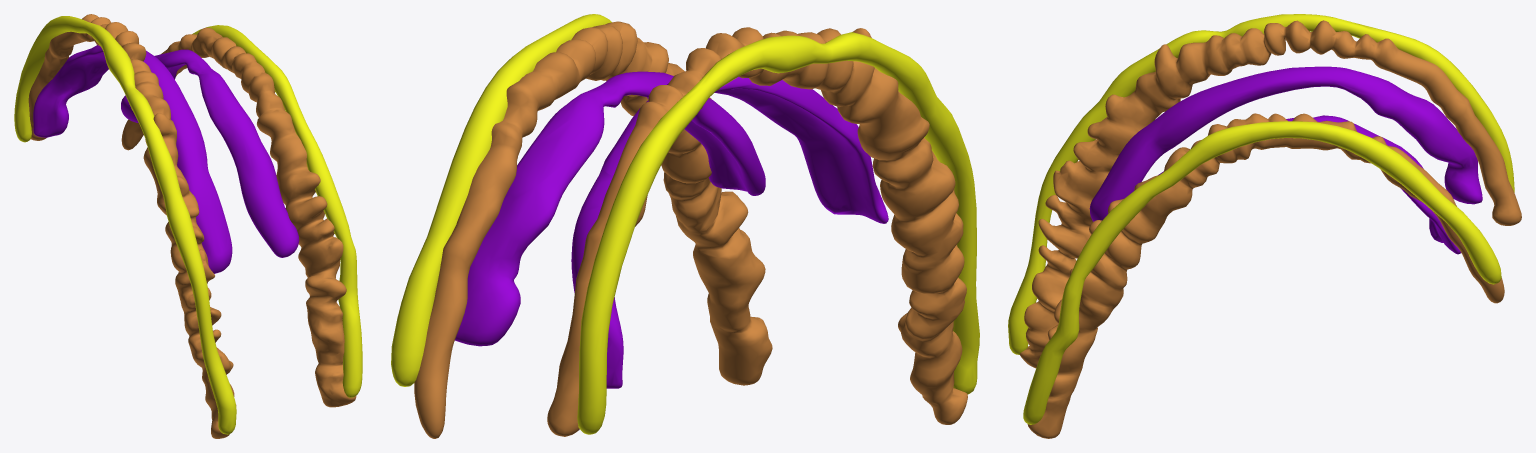
The model's file is MesonephrosMesonephricDuctGonodalRidge.fbx.
3 renders of one model, left to right at view 1: azimuth 30°, elevation 25°; view 2: azimuth 150°, elevation 25°; view 3: azimuth 270°, elevation 25°, orthographic. The views are drawn at different scales.
Visible parts, largest first — view 1: Mesonephros, Mesonephric_duct, Gonadal_ridge; view 2: Mesonephros, Mesonephric_duct, Gonadal_ridge; view 3: Mesonephros, Mesonephric_duct, Gonadal_ridge.
Boxes of the visible parts, x1,y1,x2,y2 form: Mesonephros: (28,14,356,438); Mesonephric_duct: (14,16,362,434); Gonadal_ridge: (33,45,299,273); Mesonephros: (414,21,967,438); Mesonephric_duct: (391,14,979,434); Gonadal_ridge: (455,71,888,388); Mesonephros: (1020,20,1521,438); Mesonephric_duct: (1008,14,1514,424); Gonadal_ridge: (1089,66,1482,254).
Bounding box in the file's own units: 7 × 12.03 × 15.62.
